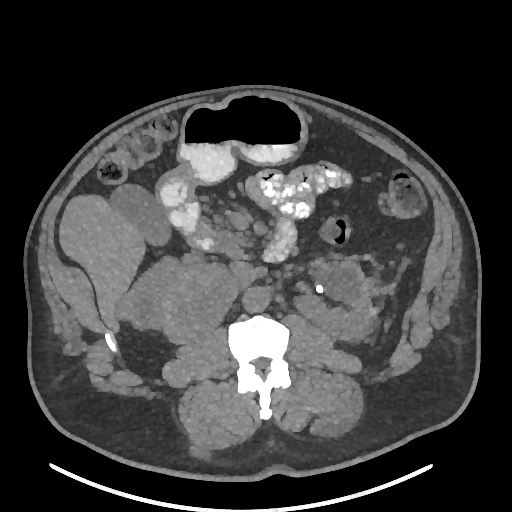Lesion: (164, 261, 238, 334)
